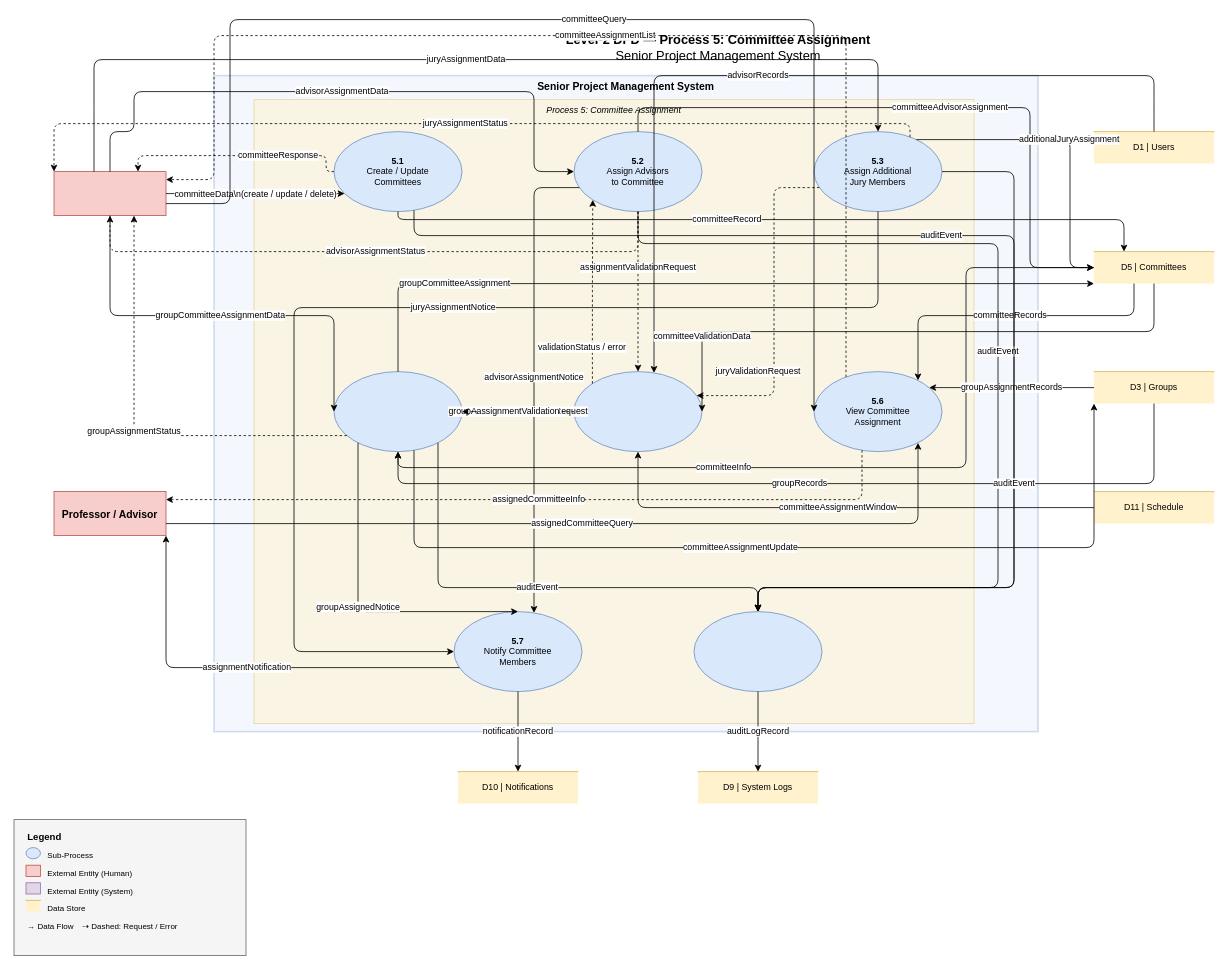
Image size: 1228x970. Some labels were removed from this diagram. The shapes that lost their labels are listed below. From the top down, each one's centre as x and y in pixels, then its label:
At (x=109, y=193): "Coordinator".
At (x=397, y=411): "5.4 Assign Groups to Committee".
At (x=637, y=411): "5.5 Validate Assignment Rules & Schedule".
At (x=757, y=651): "5.8 Logging & Audit Trail".
